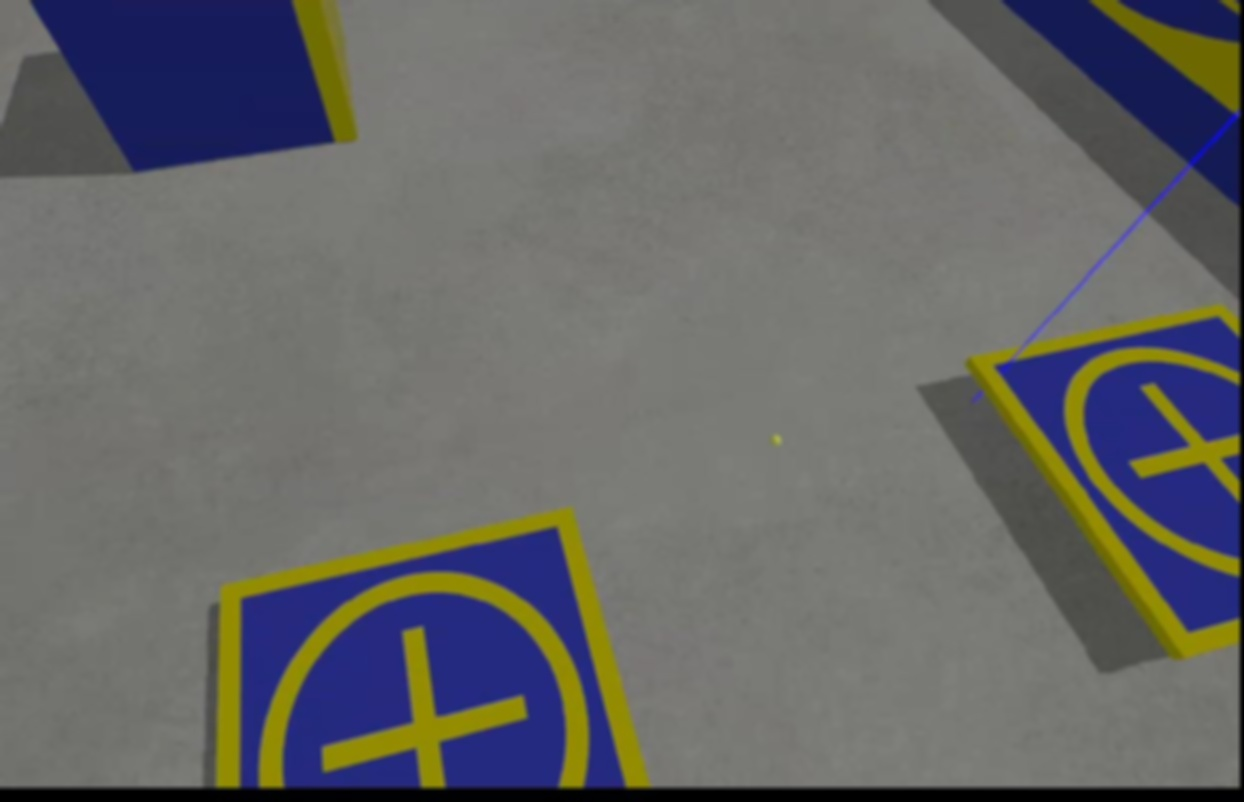large_base: (992, 1, 1240, 202)
small_base: (216, 508, 653, 791), (966, 301, 1244, 657)
